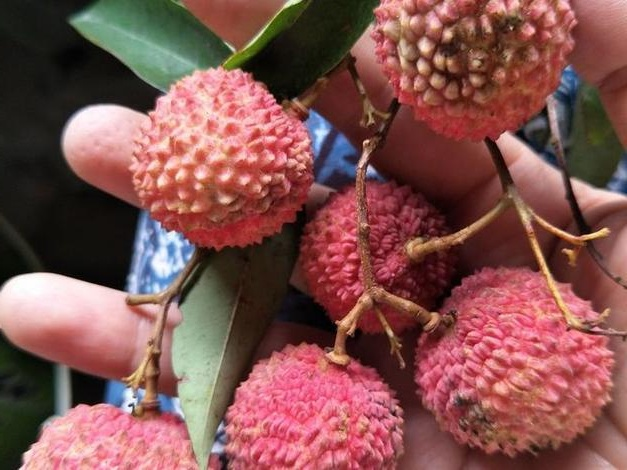Anthracnose: (382, 5, 517, 91), (455, 386, 553, 436)
